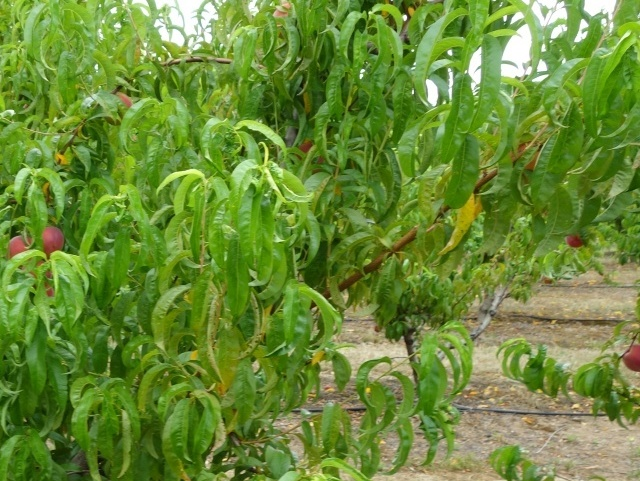peach: (100, 91, 137, 128), (34, 226, 67, 258), (5, 235, 35, 266), (619, 342, 639, 375), (562, 228, 587, 253)
